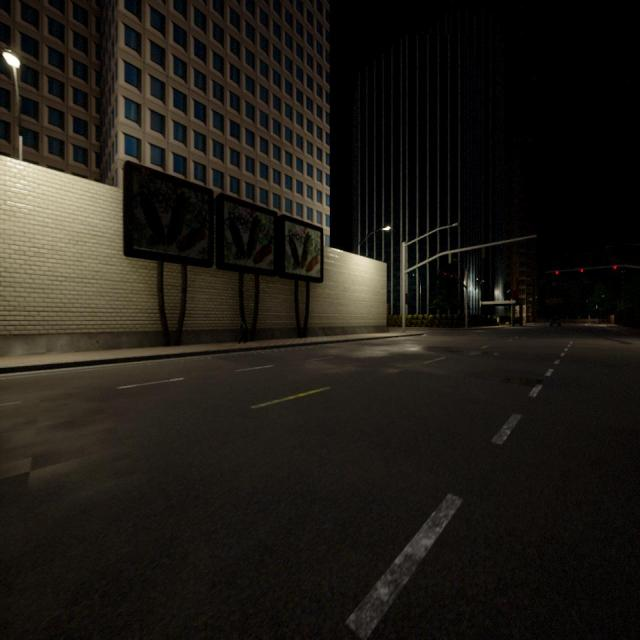Vehicle: (549, 316, 562, 328)
traffic_light: (482, 246, 486, 260), (448, 252, 452, 263), (405, 293, 408, 305), (613, 265, 617, 270), (555, 271, 559, 275), (580, 268, 584, 272), (444, 272, 446, 277), (450, 274, 452, 278), (458, 277, 460, 281)
